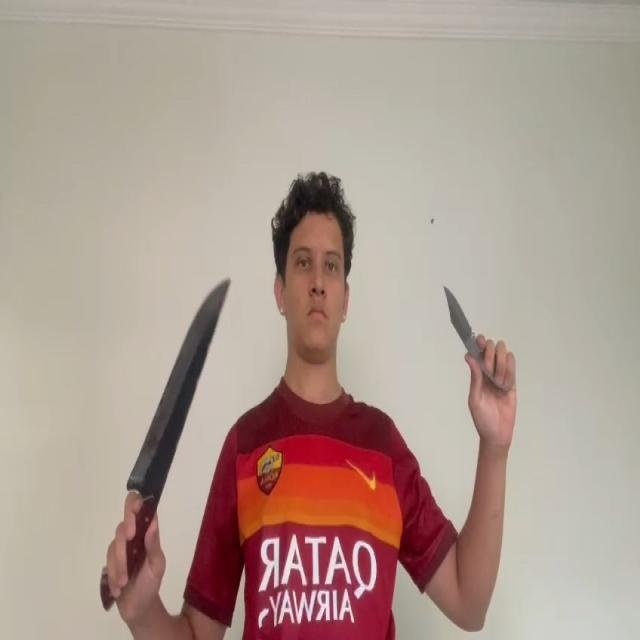knife: (126, 278, 231, 487), (443, 282, 471, 348)
